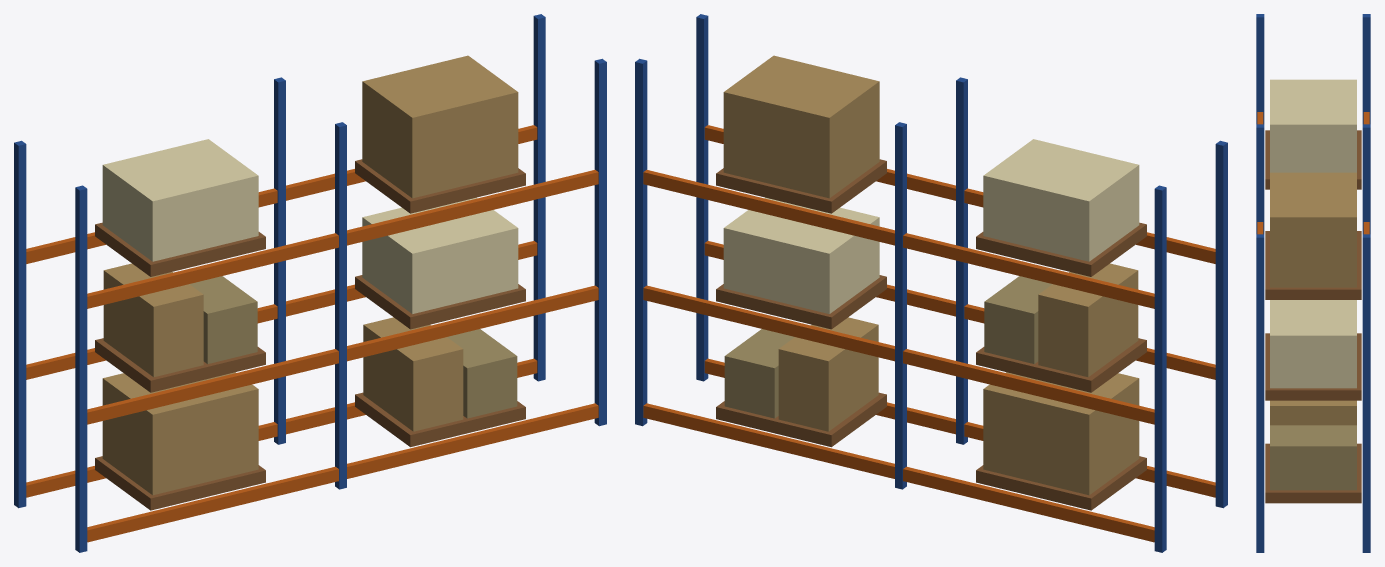
Rendered from prop_racking.glb.
3 renders of one model, left to right at view 1: azimuth 30°, elevation 25°; view 2: azimuth 150°, elevation 25°; view 3: azimuth 270°, elevation 25°, orthographic. The views are drawn at different scales.
Parts seen in each view (by area): view 1: body; view 2: body; view 3: body.
Part boxes in pixels (left/top/right/bottom): body: left=14, top=14, right=606, bottom=552; body: left=635, top=14, right=1227, bottom=552; body: left=1256, top=14, right=1370, bottom=552.
Size of the model in its own units: 5.48 by 3.6 by 1.18.
